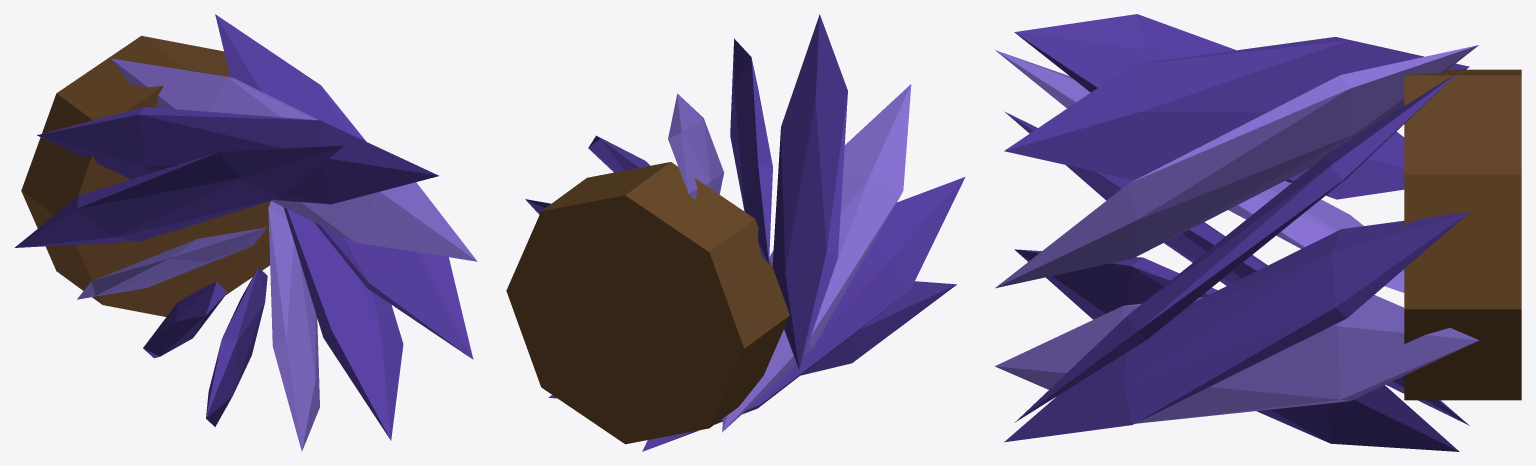
Rendered from 3_growing.obj.
The picture shows the model from 3 angles, left to right: view 1: azimuth 30°, elevation 25°; view 2: azimuth 150°, elevation 25°; view 3: azimuth 270°, elevation 25°; orthographic projection. The views are drawn at different scales.
Visible parts, largest first — view 1: cadantine_3_growing; view 2: cadantine_3_growing; view 3: cadantine_3_growing.
Boxes of the visible parts, x1,y1,x2,y2 form: cadantine_3_growing: [14, 14, 477, 451]; cadantine_3_growing: [506, 14, 965, 451]; cadantine_3_growing: [995, 14, 1521, 451].
Bounding box in the file's own units: 0.1511 × 0.1483 × 0.1797.
